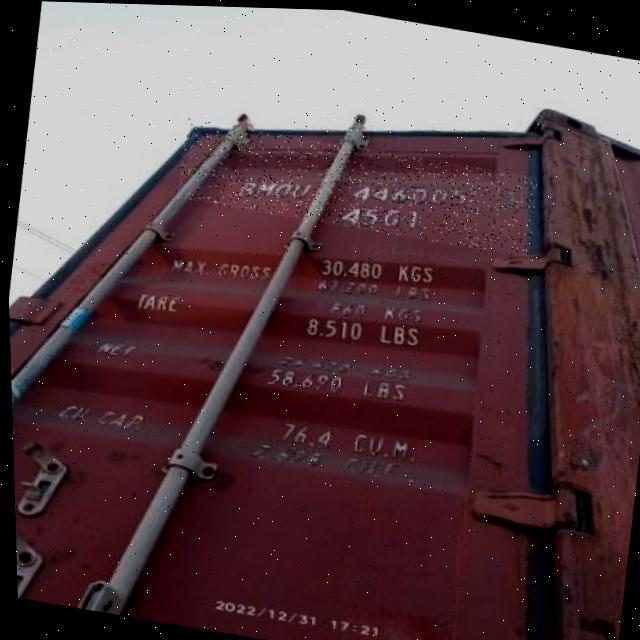container_number_h: (174, 117, 539, 254)
